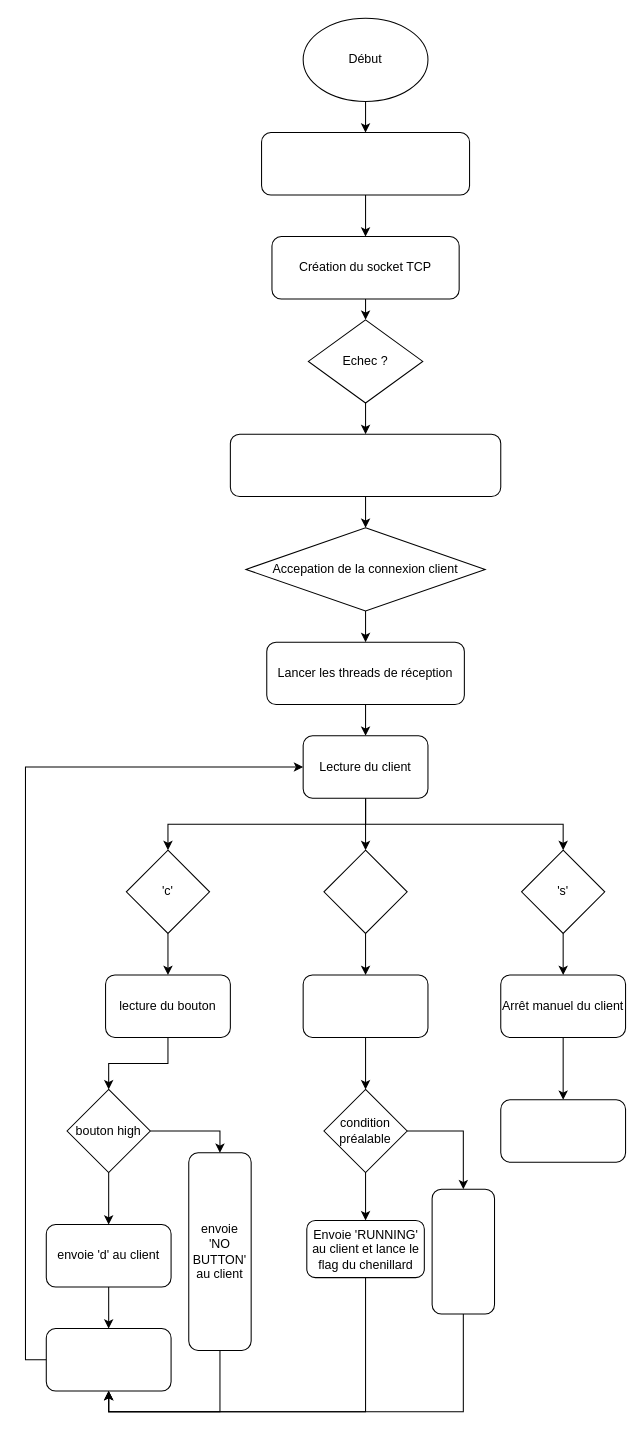
Some shapes in this 644 by 1438 pixel diagram are drawn without their labels. The box of each missing label's shape, as (x1, y1, x2, y2) in pixels:
'y': (323, 849, 407, 933)
Binding: (45, 1328, 171, 1391)
Configuration de l'adresse + port du serveur: (229, 433, 501, 497)
Démarrage du chenillard: (302, 974, 428, 1037)
Envoie 'NOT READY' au client: (431, 1188, 495, 1314)
FIN: (500, 1099, 626, 1162)
Initialisation BSP : LEDs + Bouton: (261, 132, 470, 195)
